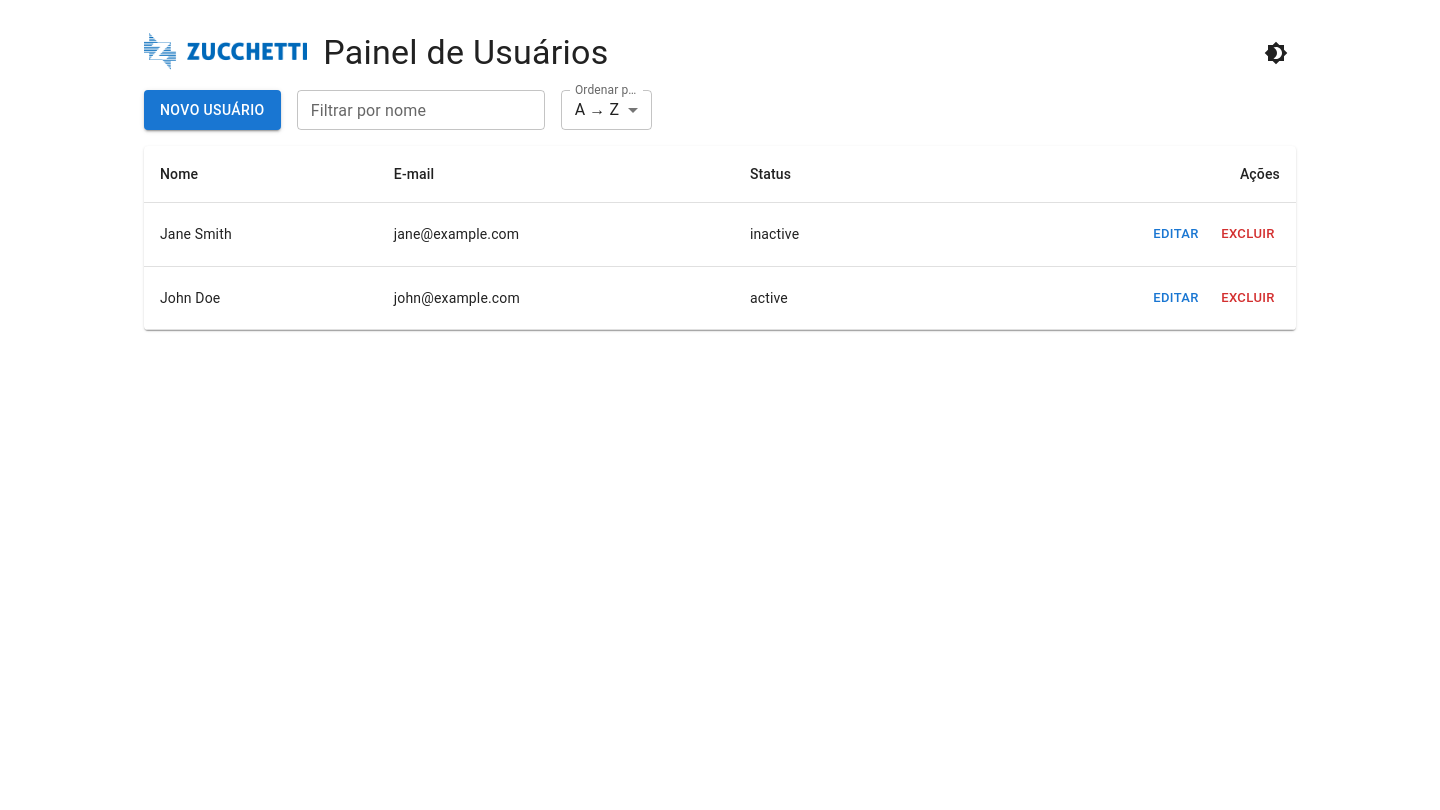
Scenario: UsersPage › exclui um usuário após confirmação
Expected: the text "Jane Smith" is shown, [144, 202, 378, 266]
Click the button "Excluir" in the row of "Jane Smith" at [1248, 234], box [1216, 219, 1280, 250]
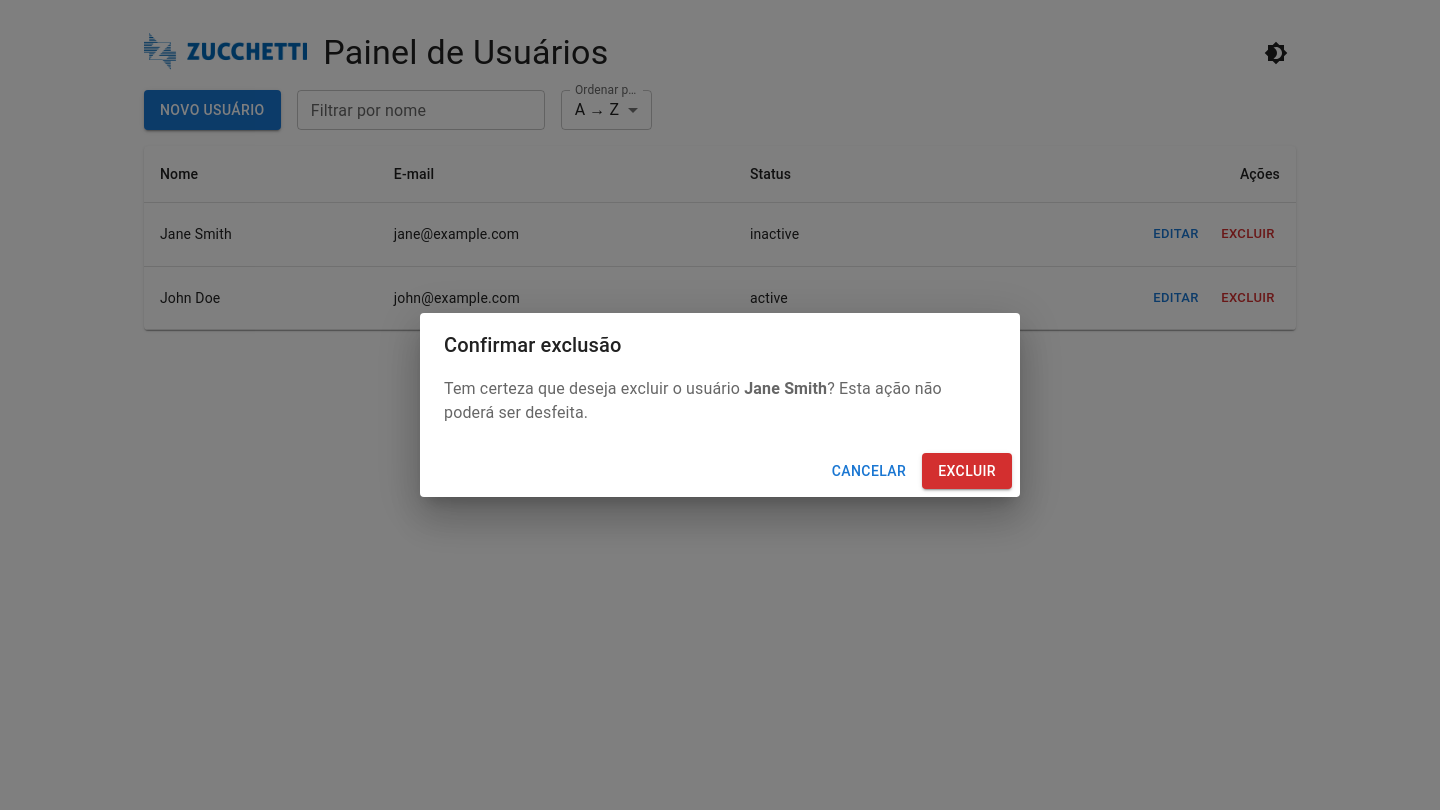
Expected: the text "Tem certeza que deseja excluir o usuário" is shown, [444, 379, 744, 398]
Click the button "Excluir" at [967, 471], box [922, 453, 1012, 489]
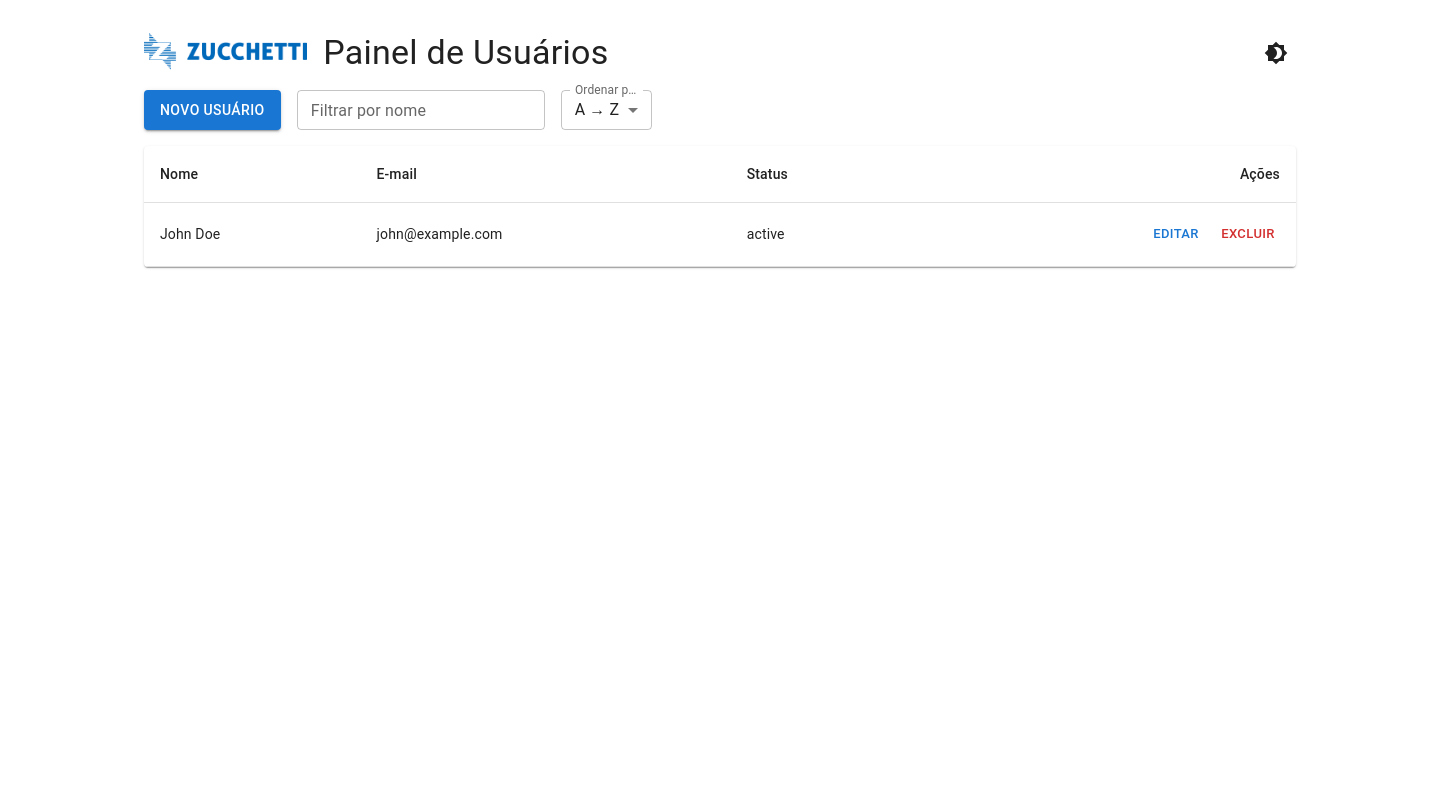
Expected: the text "John Doe" is shown, [144, 202, 360, 266]
Expected: the text "Jane Smith" is gone
